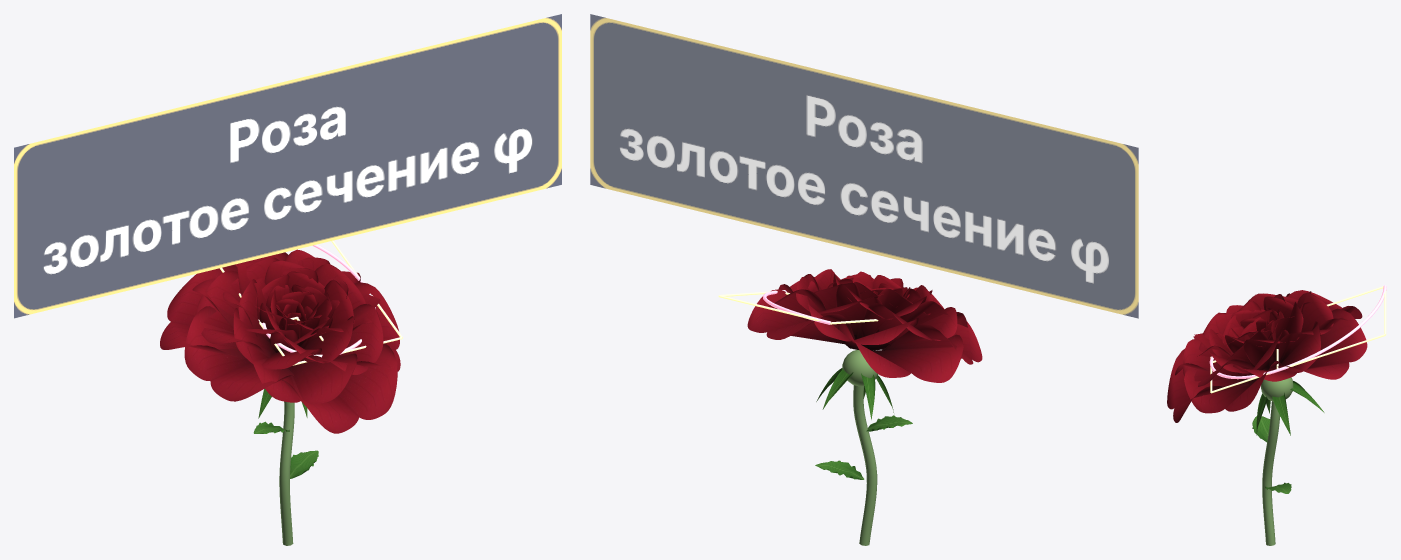
File: rose.glb
3 views of the same model, side by side, from view 1: azimuth 30°, elevation 25°; view 2: azimuth 150°, elevation 25°; view 3: azimuth 270°, elevation 25° (orthographic). The views are drawn at different scales.
Bounding box in the file's own units: 0.2281 × 0.1842 × 0.089.
47 materials, 10 textured.
